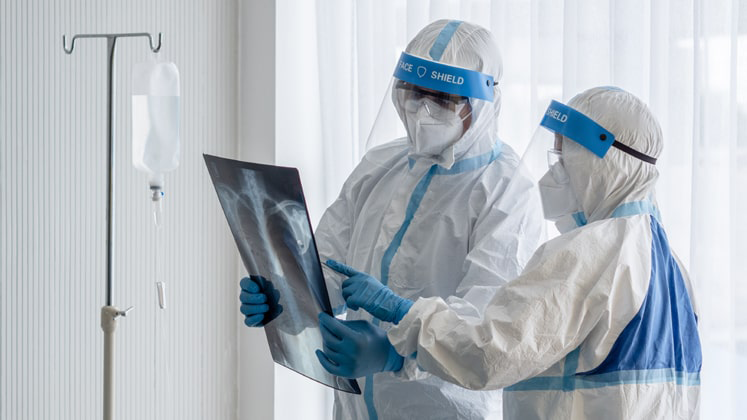Coverall: (438, 88, 696, 418), (322, 19, 531, 417)
Gloves: (310, 312, 404, 379), (327, 256, 412, 324), (237, 272, 271, 330)
Mask: (397, 97, 469, 159), (532, 156, 584, 221)
